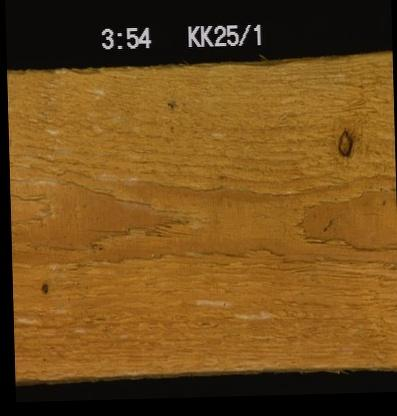dry_knot: (335, 125, 353, 158)
small_knot: (38, 279, 50, 294)
